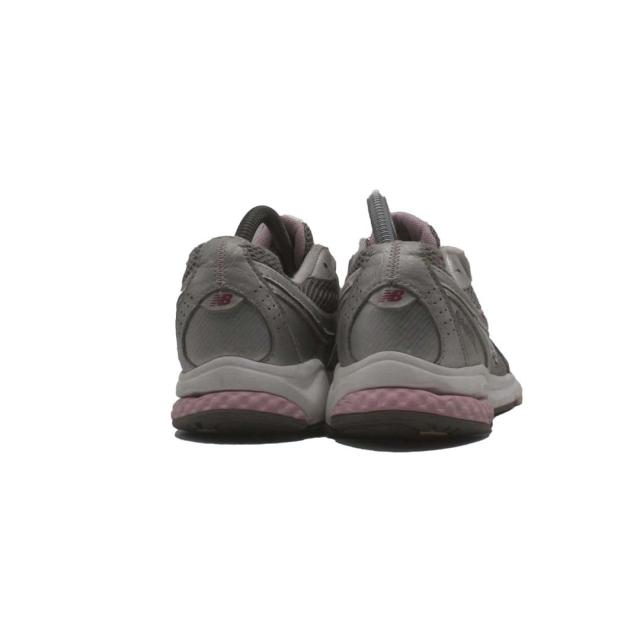heel: (335, 195, 484, 367), (174, 236, 316, 365)
midsole: (325, 354, 520, 442), (168, 359, 325, 428)
